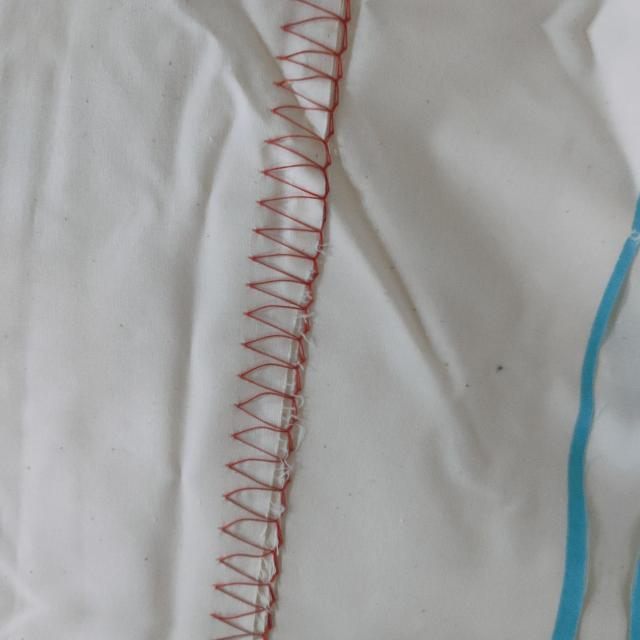gray stitch: (208, 294, 314, 636), (239, 4, 355, 294)
